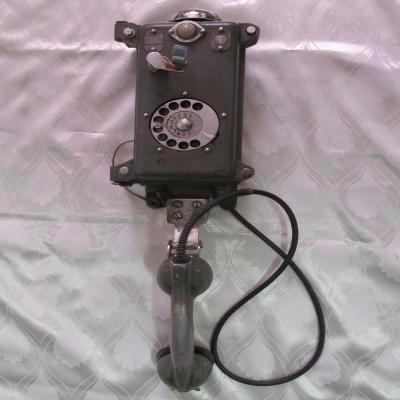technique: (111, 10, 326, 393)
